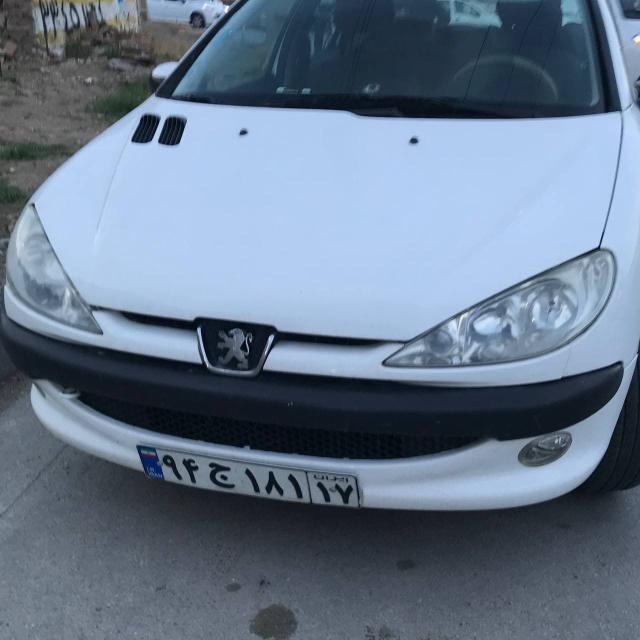Plates: (134, 446, 364, 508)
